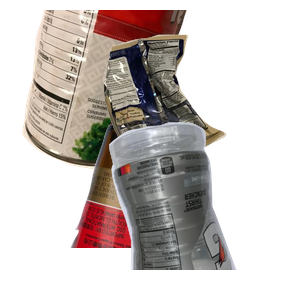glass: (68, 120, 255, 300)
metal: (20, 10, 199, 172)
plastic: (106, 120, 300, 300)
trash: (101, 32, 300, 195)
